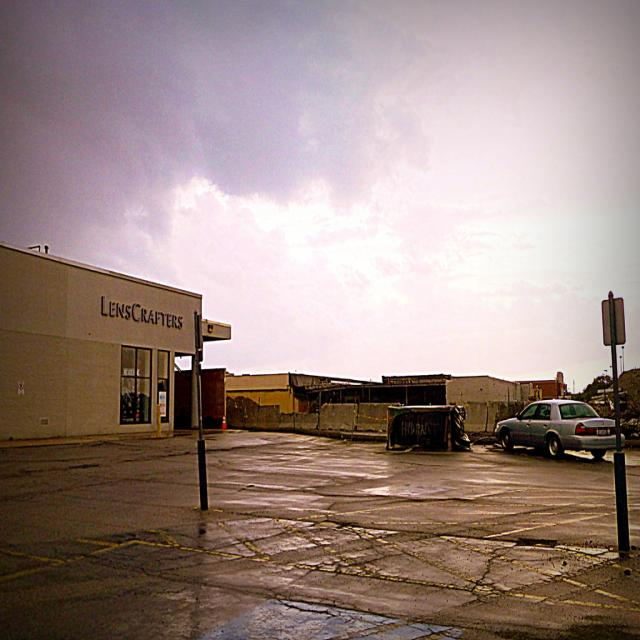car: (500, 399, 619, 459)
